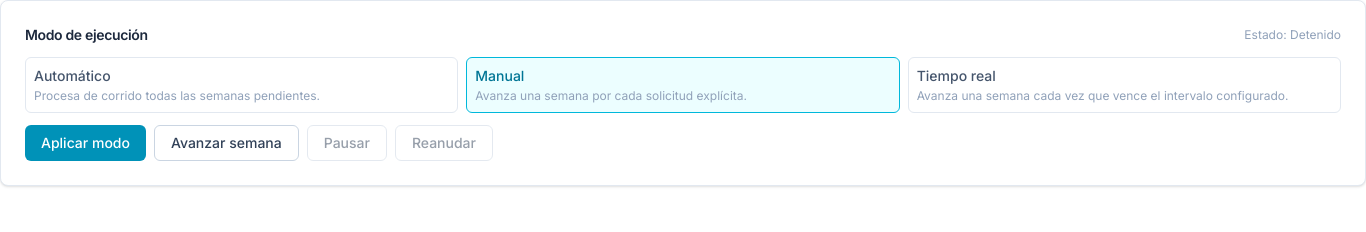
Test case: PanelModoEjecucion (Req. 32) › degrada con elegancia cuando el endpoint no está disponible
The image size is (1366, 232).
Click the button "Aplicar modo" at coordinates (86, 143), box [25,125,146,161]
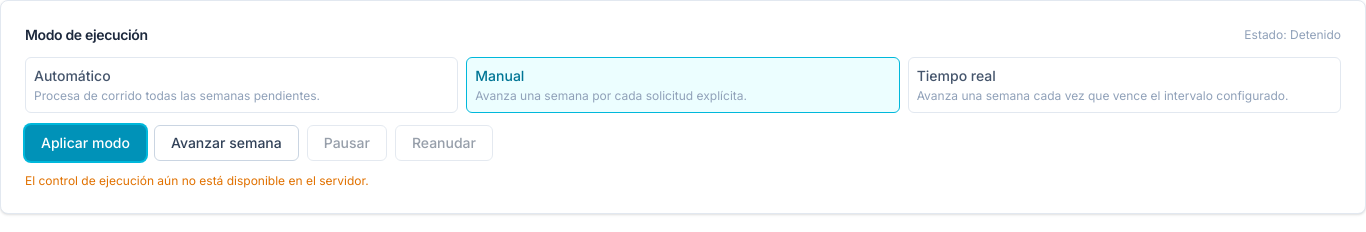
Check: the message shows "aún no está disponible", box [25,173,369,188]
